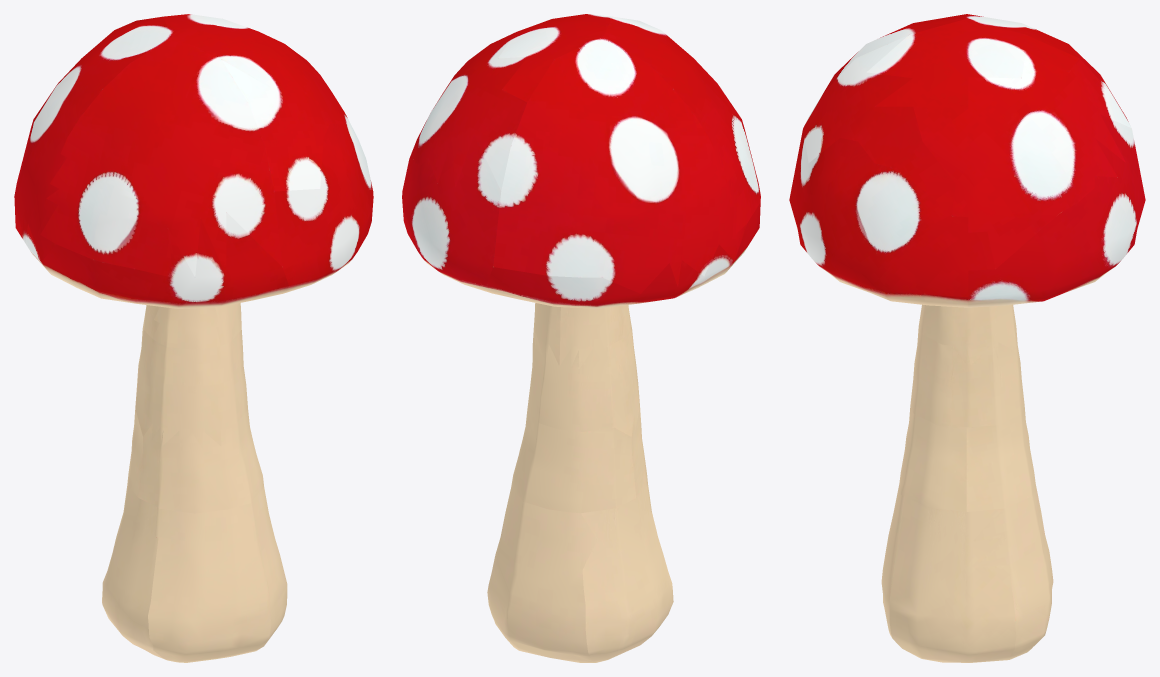
File: s1_gen_mushroom.glb
3 renders of one model, left to right at view 1: azimuth 30°, elevation 25°; view 2: azimuth 150°, elevation 25°; view 3: azimuth 270°, elevation 25°, orthographic.
Bounding box in the file's own units: 1.01 × 1.91 × 1.01.
1 material, 1 textured.
